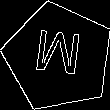M_S: (32, 29, 85, 85)
